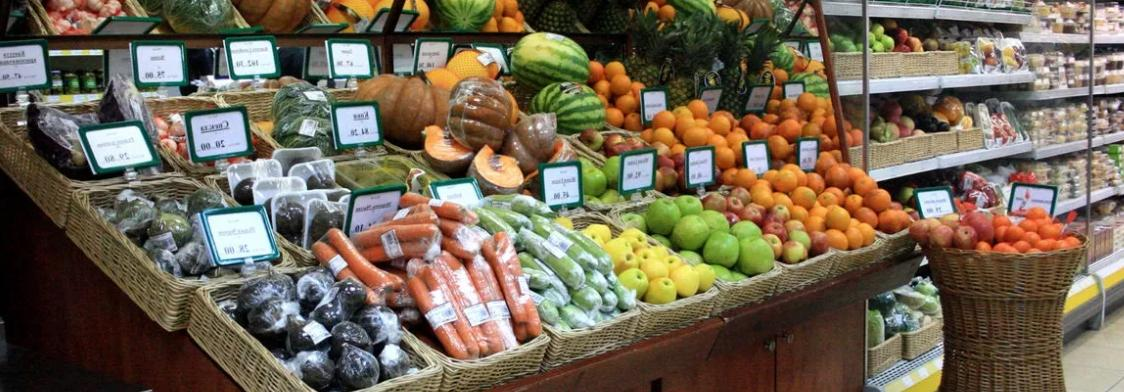carrot: (335, 195, 532, 364)
green apple: (629, 194, 774, 288), (558, 156, 643, 206), (847, 21, 894, 56)
mandarin: (974, 208, 1082, 260)
orange: (749, 166, 875, 250), (650, 98, 752, 184), (588, 60, 652, 130)
pineapple: (630, 32, 769, 116)
pumpkin: (426, 81, 570, 197), (352, 75, 461, 151)
red apple: (702, 190, 812, 268), (911, 202, 993, 255), (884, 20, 920, 56)
watermelon: (512, 30, 607, 140)
